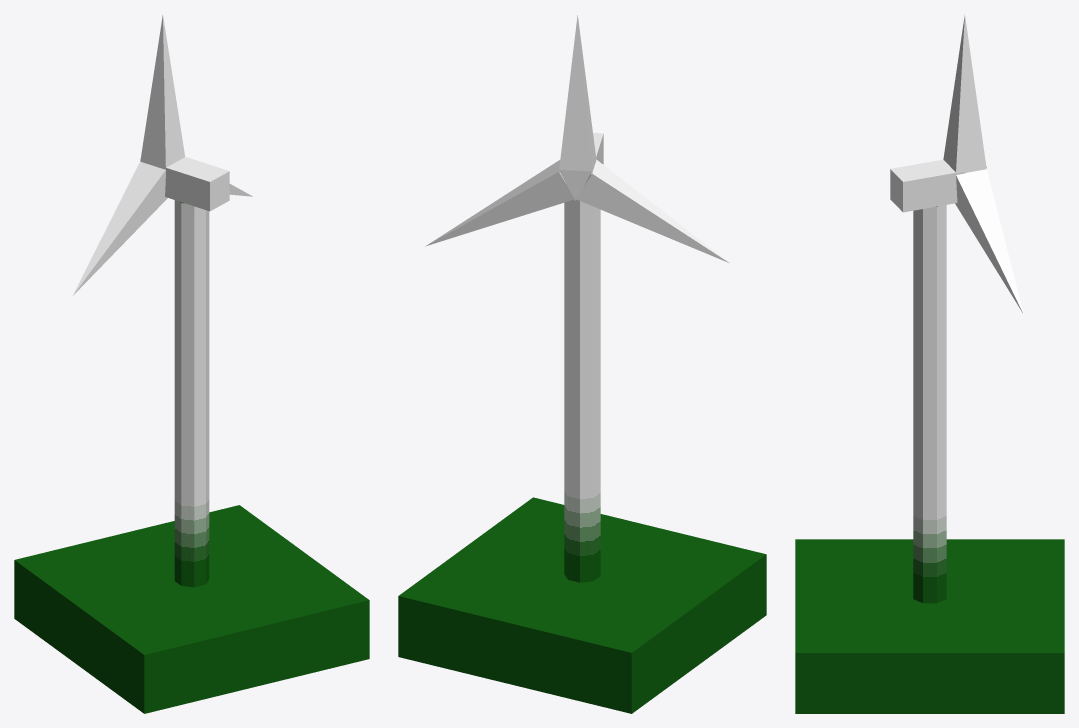
Rendered from windturbine.fbx.
3 renders of one model, left to right at view 1: azimuth 30°, elevation 25°; view 2: azimuth 150°, elevation 25°; view 3: azimuth 270°, elevation 25°, orthographic. The views are drawn at different scales.
Visible parts, largest first — view 1: grass, cylinder, pyramid, pyramid_1, cuboid; view 2: grass, cylinder, pyramid_1, pyramid_2, pyramid; view 3: grass, cylinder, pyramid, pyramid_2, cuboid.
Boxes of the visible parts, x1,y1,x2,y2 form: grass: (14, 505, 369, 713); cylinder: (174, 200, 209, 587); pyramid: (140, 15, 184, 169); pyramid_1: (73, 161, 167, 295); cuboid: (165, 157, 229, 211); grass: (398, 497, 766, 713); cylinder: (564, 199, 600, 582); pyramid_1: (576, 159, 729, 263); pyramid_2: (425, 160, 574, 246); pyramid: (559, 15, 596, 174); grass: (795, 539, 1064, 713); cylinder: (913, 205, 946, 603); pyramid: (943, 15, 986, 172); pyramid_2: (955, 169, 1023, 313); cuboid: (890, 159, 965, 212).
Bounding box in the file's own units: 27.08 × 65.31 × 25.
Materials: 1 (1 with a texture image).
